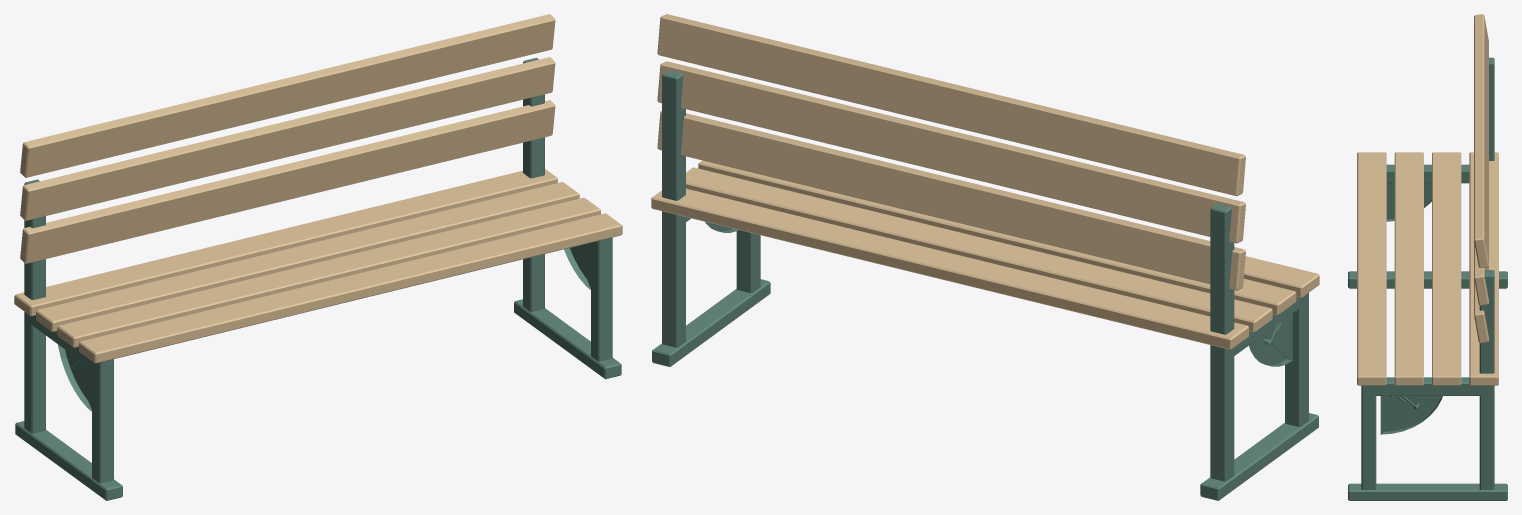
3 views of the same model, side by side, from view 1: azimuth 30°, elevation 25°; view 2: azimuth 150°, elevation 25°; view 3: azimuth 270°, elevation 25° (orthographic). The views are drawn at different scales.
Visible parts, largest first — view 1: market-bench; view 2: market-bench; view 3: market-bench.
Part boxes in pixels (x1,y1,x2,y2): market-bench: (14,14,622,500); market-bench: (651,14,1319,500); market-bench: (1348,14,1507,500).
Size of the model in its own units: 1.8 by 0.9907 by 0.54.
